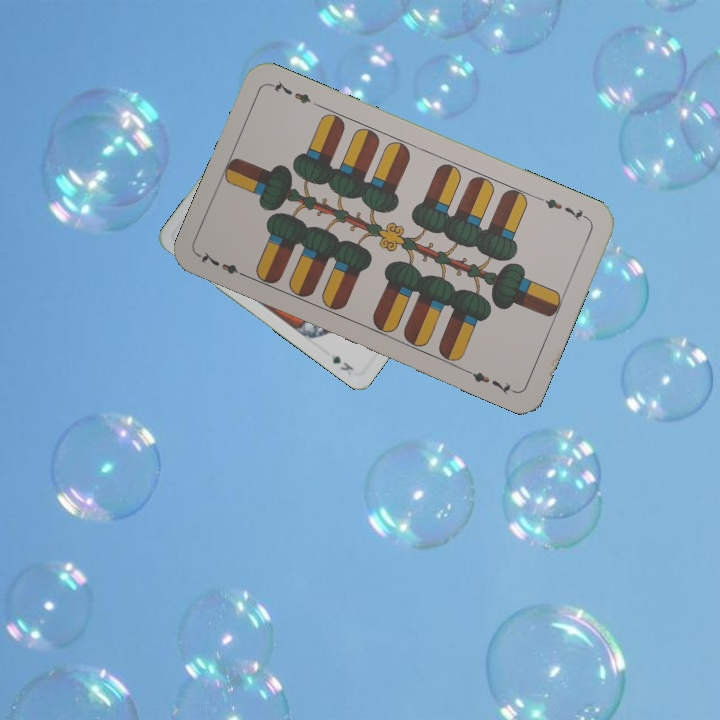E7: (195, 247, 252, 281), (534, 193, 591, 224)
